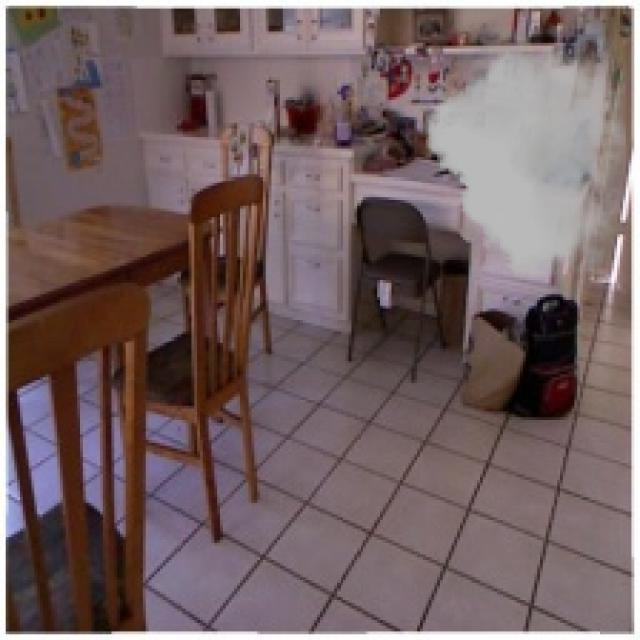Smoke: (426, 17, 626, 283)
